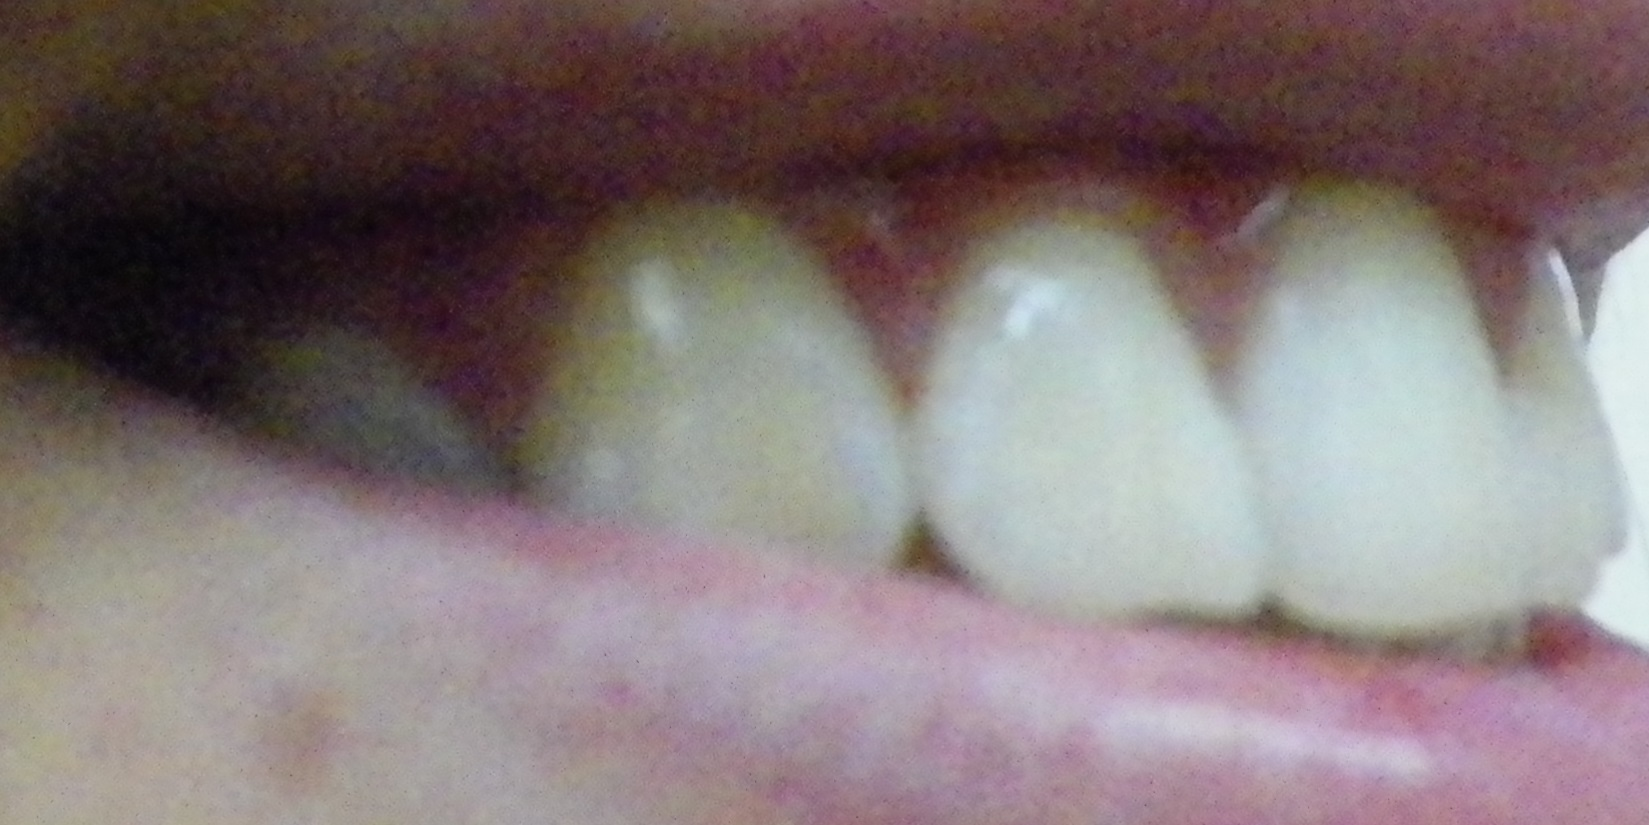boca: (122, 153, 1622, 646)
